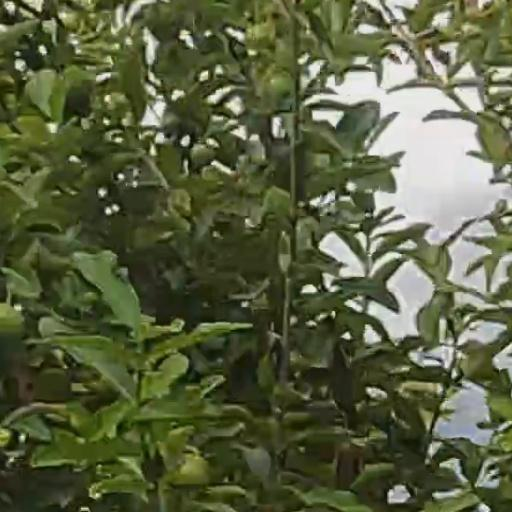acerola_verde: (1, 304, 24, 337)
